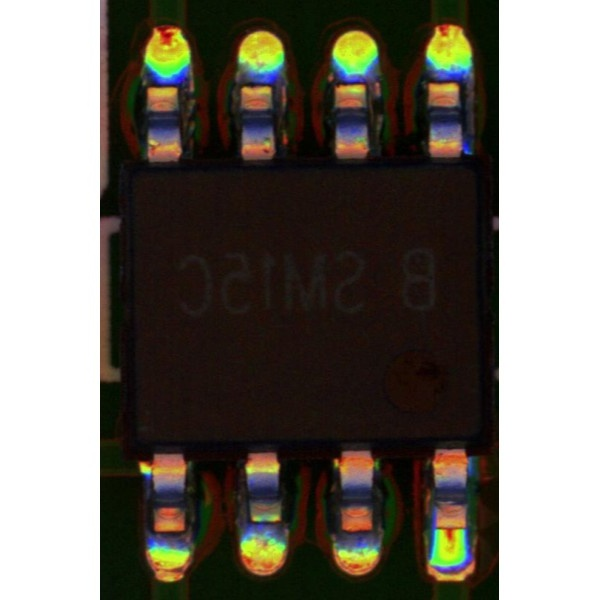Bad_podu: (437, 520, 463, 542)
